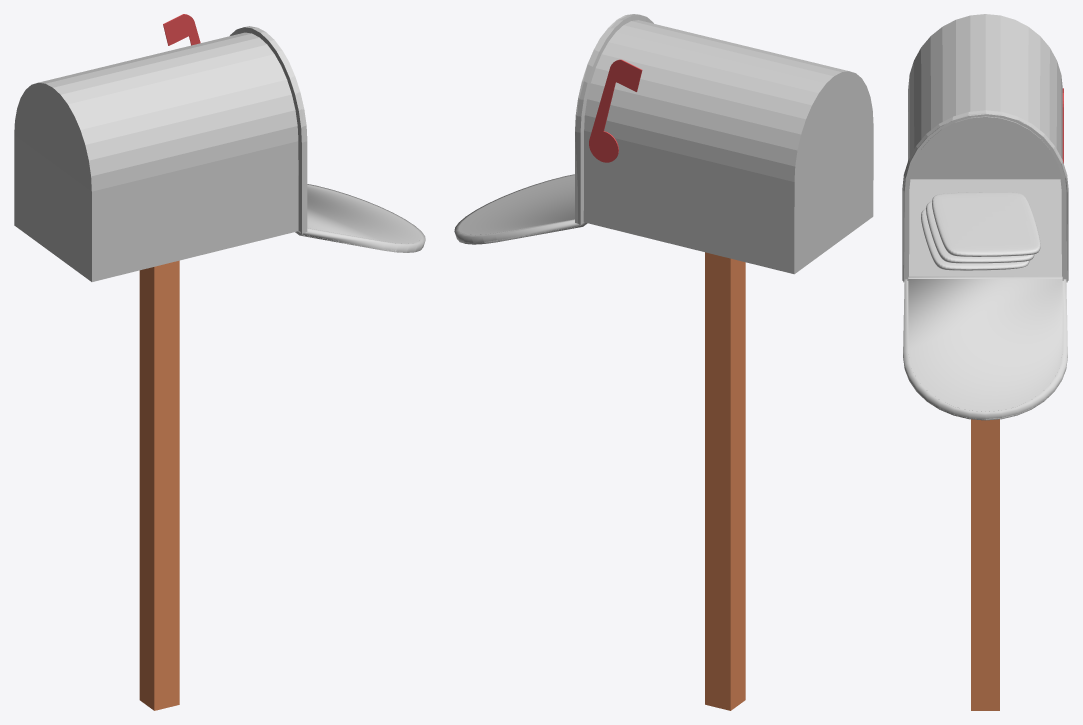
Rendered from MailBox (1).fbx.
3 renders of one model, left to right at view 1: azimuth 30°, elevation 25°; view 2: azimuth 150°, elevation 25°; view 3: azimuth 270°, elevation 25°, orthographic. The views are drawn at different scales.
Parts seen in each view (by area): view 1: Cylinder, Cube, Cylinder.003, Cylinder.002; view 2: Cylinder, Cube, Cylinder.003, Cylinder.002; view 3: Cylinder, Cylinder.003, Cube, Cube.003, Cube.002, Cube.001.
Boxes of the visible parts, x1=… form: Cylinder: x1=14, y1=26, x2=307, y2=281; Cube: x1=139, y1=260, x2=179, y2=710; Cylinder.003: x1=295, y1=184, x2=425, y2=252; Cylinder.002: x1=163, y1=14, x2=200, y2=45; Cylinder: x1=575, y1=14, x2=873, y2=274; Cube: x1=705, y1=252, x2=745, y2=710; Cylinder.003: x1=454, y1=174, x2=587, y2=244; Cylinder.002: x1=589, y1=59, x2=642, y2=162; Cylinder: x1=902, y1=14, x2=1068, y2=282; Cylinder.003: x1=903, y1=276, x2=1067, y2=420; Cube: x1=971, y1=419, x2=999, y2=710; Cube.003: x1=932, y1=192, x2=1040, y2=256; Cube.002: x1=926, y1=201, x2=1034, y2=263; Cube.001: x1=921, y1=208, x2=1029, y2=270.
Bounding box in the file's own units: 134 × 229 × 53.59.
